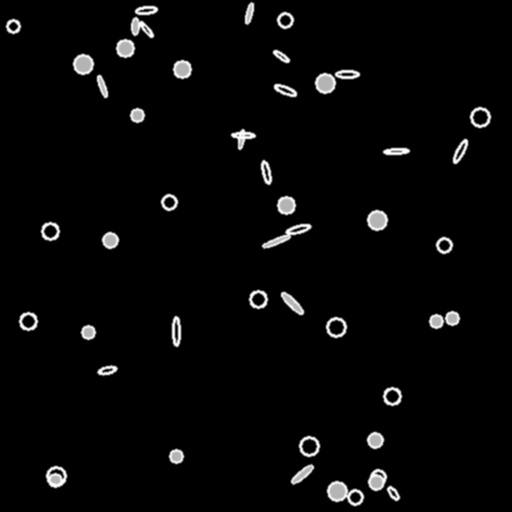pseudomonas: (280, 291, 304, 315), (289, 463, 315, 485), (262, 233, 290, 249), (452, 139, 468, 163), (273, 83, 297, 97), (285, 223, 311, 235), (96, 74, 108, 98), (138, 20, 154, 38), (272, 48, 290, 64), (260, 161, 272, 183), (386, 485, 400, 501), (136, 5, 156, 15), (244, 3, 254, 23), (98, 365, 116, 375), (173, 317, 179, 345), (335, 70, 358, 77), (237, 129, 245, 149), (384, 148, 408, 154), (131, 17, 139, 35), (232, 132, 254, 138)
synechocystis: (74, 55, 92, 73), (368, 211, 386, 229), (328, 482, 346, 500), (327, 318, 345, 336), (471, 108, 489, 126), (316, 74, 334, 92), (47, 467, 65, 485), (300, 437, 318, 455), (117, 40, 133, 56), (384, 388, 400, 404), (42, 223, 58, 239), (174, 61, 190, 77), (20, 313, 36, 329), (278, 197, 294, 213), (250, 291, 266, 307), (437, 238, 451, 252), (103, 233, 117, 247), (162, 195, 176, 209), (371, 470, 385, 484), (369, 475, 383, 489), (348, 490, 362, 504), (278, 13, 292, 27), (368, 433, 382, 447), (49, 474, 61, 486), (446, 312, 458, 324), (7, 20, 19, 32), (82, 326, 94, 338), (131, 109, 143, 121), (430, 315, 442, 327), (170, 450, 182, 462)
